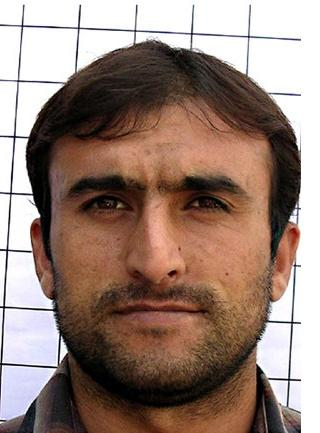No Mask: (12, 41, 311, 403)
